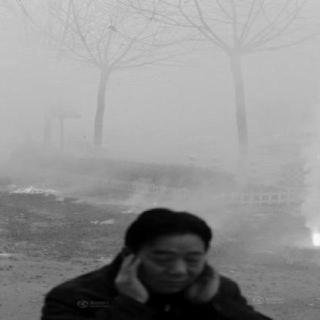Fire: (296, 226, 318, 248), (149, 200, 161, 208)
Smoke: (137, 73, 237, 165), (247, 60, 316, 148), (298, 153, 318, 227)
